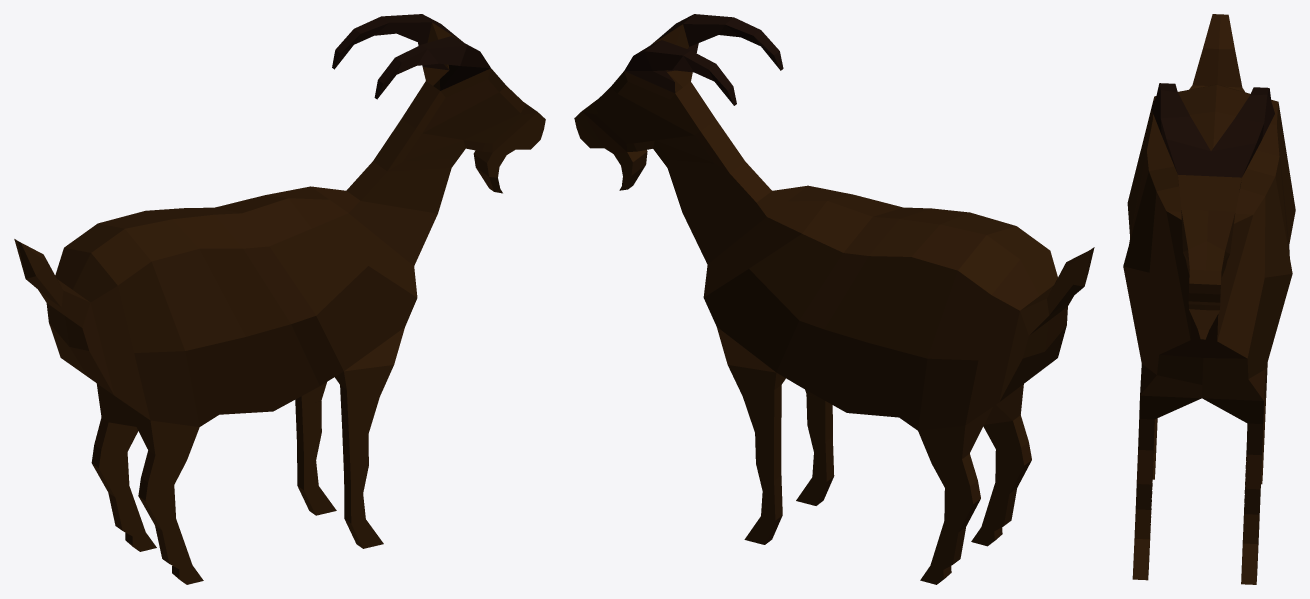
Rendered from Goat on Montain .fbx.
The picture shows the model from 3 angles, left to right: view 1: azimuth 30°, elevation 25°; view 2: azimuth 150°, elevation 25°; view 3: azimuth 270°, elevation 25°; orthographic projection. The views are drawn at different scales.
Visible parts, largest first — view 1: Goat; view 2: Goat; view 3: Goat.
Boxes of the visible parts, left/top/right/bottom form: Goat: left=14, top=14, right=545, bottom=584; Goat: left=574, top=14, right=1094, bottom=584; Goat: left=1123, top=14, right=1295, bottom=584.
Bounding box in the file's own units: 2606 × 2302 × 687.
